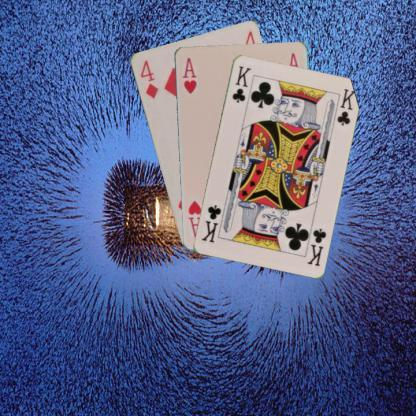4d: (136, 57, 160, 100)
Ah: (180, 55, 198, 95)
Kc: (304, 224, 327, 268), (230, 63, 252, 104)
